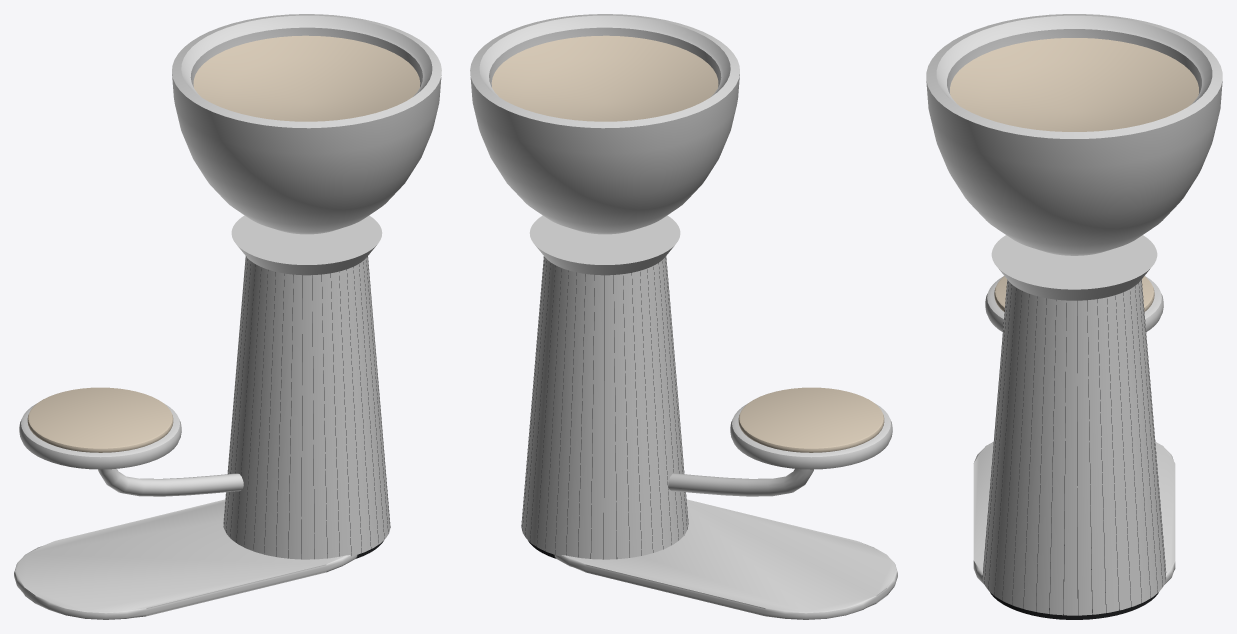
File: AS065CWHA.glb
3 views of the same model, side by side, from view 1: azimuth 30°, elevation 25°; view 2: azimuth 150°, elevation 25°; view 3: azimuth 270°, elevation 25° (orthographic). The views are drawn at different scales.
Visible parts, largest first — view 1: AS065CWHA; view 2: AS065CWHA; view 3: AS065CWHA.
Boxes of the visible parts, bbox=[...] form: AS065CWHA: bbox=[14, 14, 441, 619]; AS065CWHA: bbox=[470, 14, 897, 619]; AS065CWHA: bbox=[926, 14, 1222, 619].
Size of the model in its own units: 0.71 by 0.8 by 0.422.
